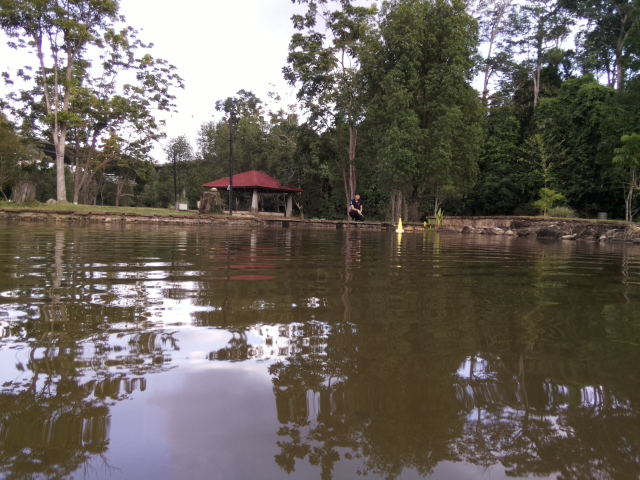checkpoint: (394, 217, 406, 233)
